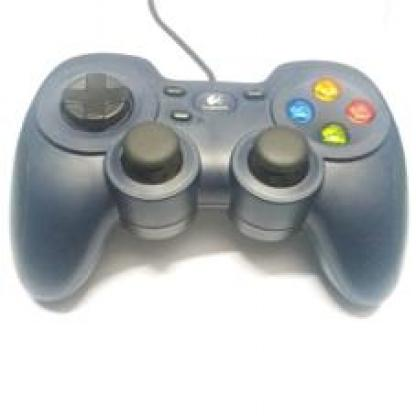gamepad: (16, 37, 414, 357)
